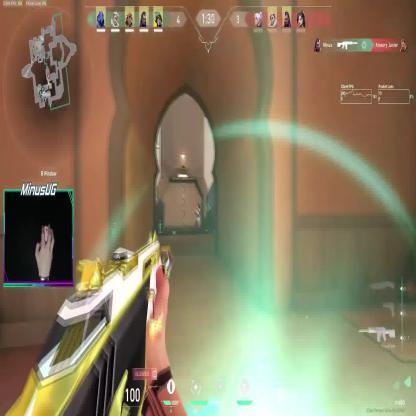enemy: (193, 202, 201, 232)
enemy_head: (198, 202, 201, 210)
